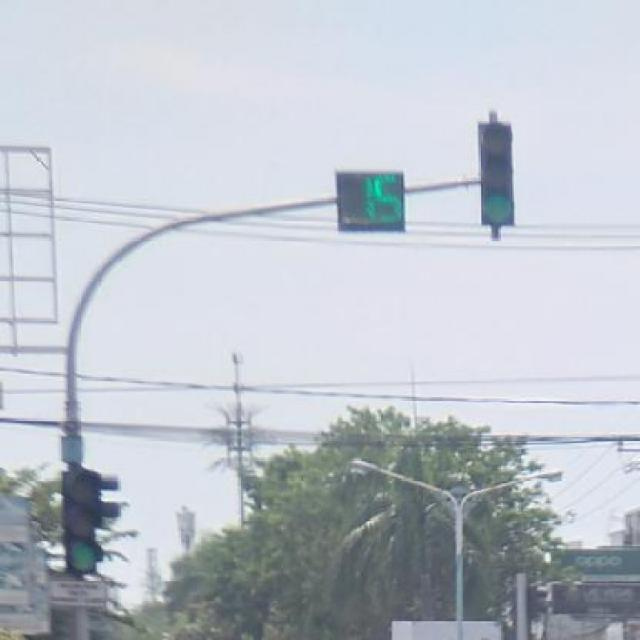traffic light: (65, 471, 105, 580), (480, 123, 514, 231)
